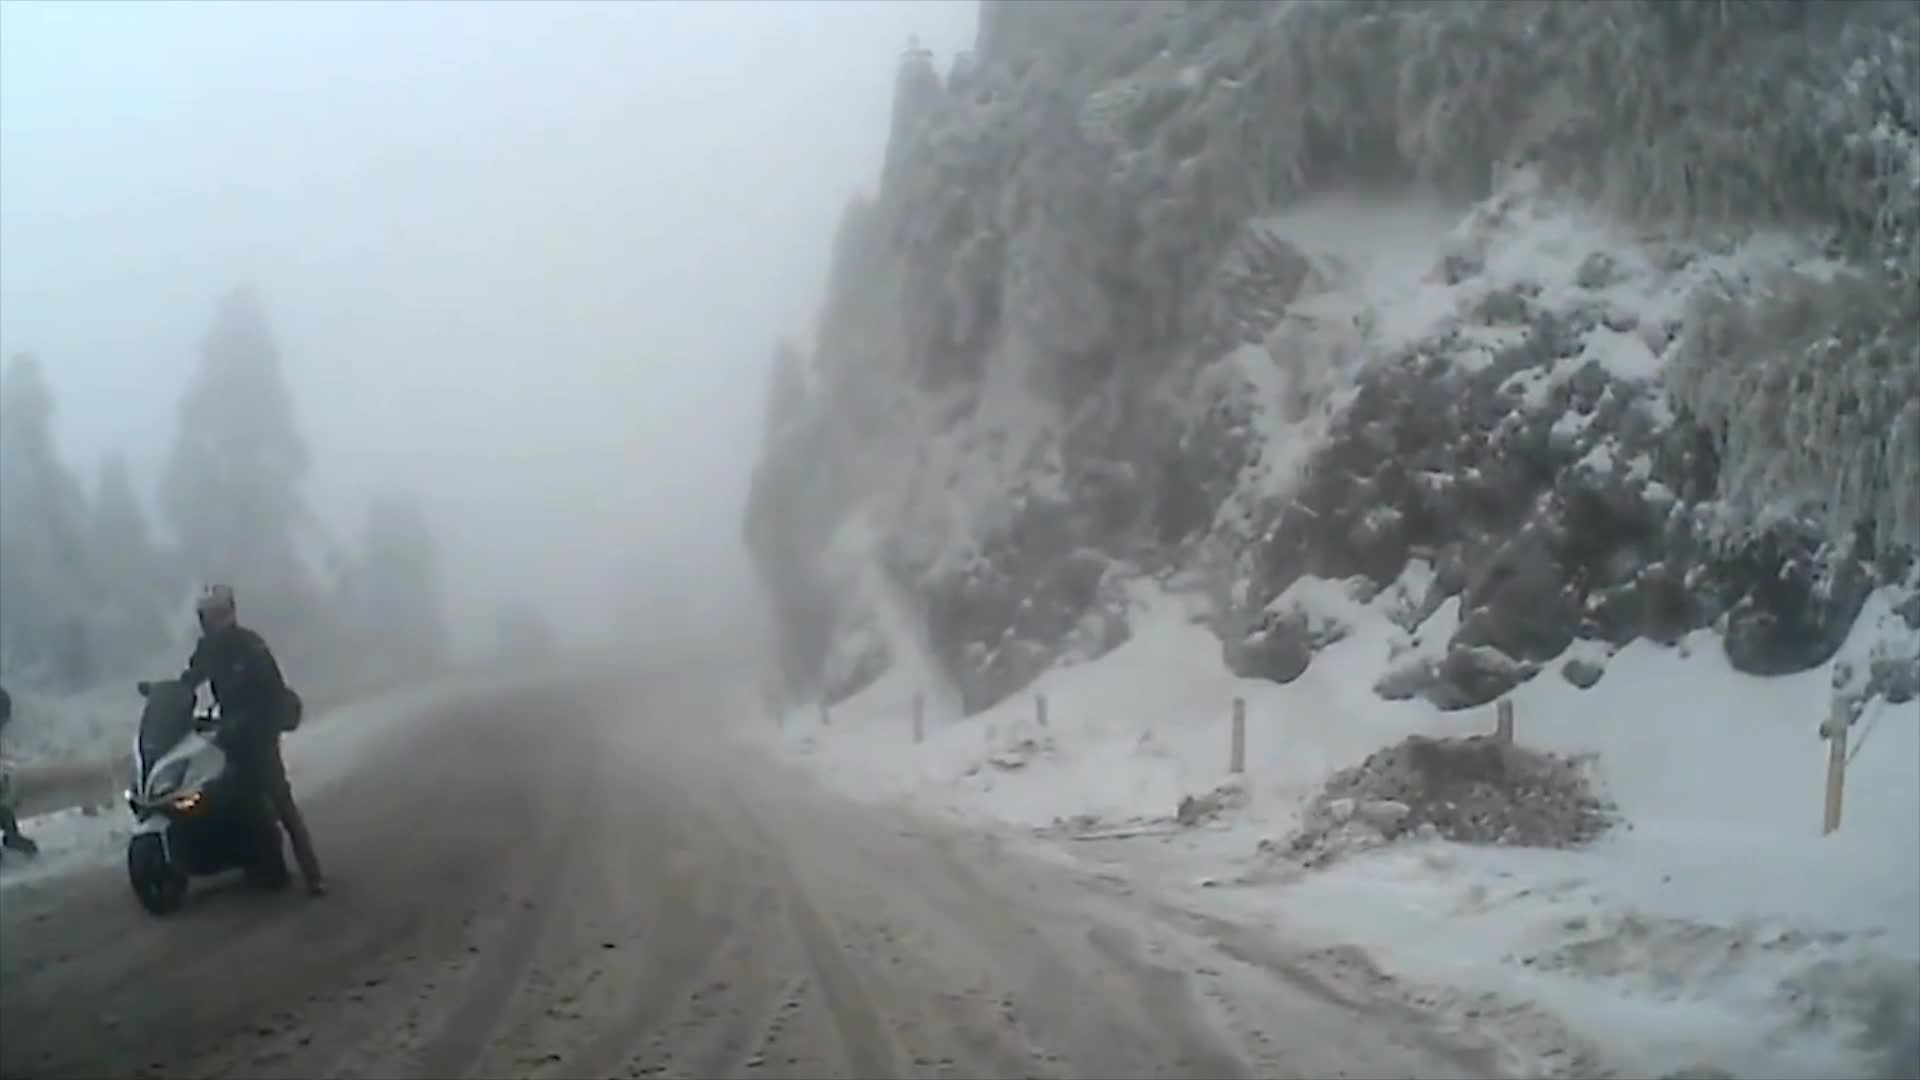pedestrian: (144, 572, 324, 903), (1, 693, 39, 866)
